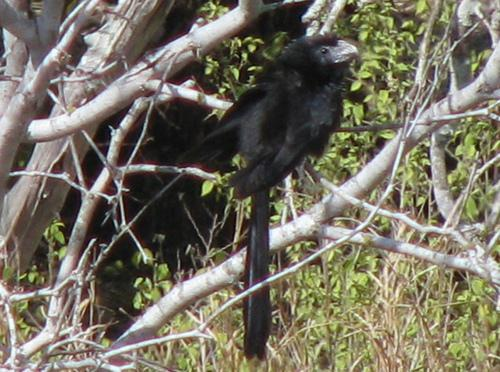004.Groove_billed_Ani: (179, 32, 359, 362)
